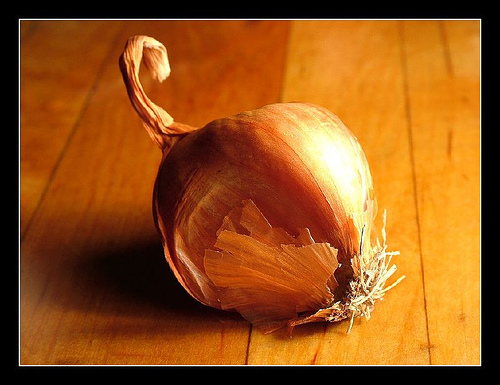onion: (119, 35, 404, 331)
